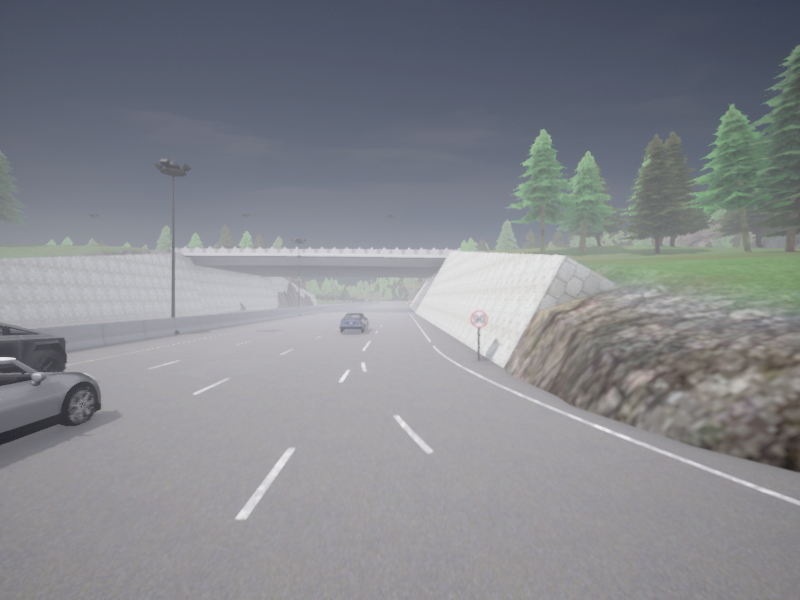vehicle: (0, 357, 100, 444), (0, 322, 66, 371), (340, 313, 368, 331)
